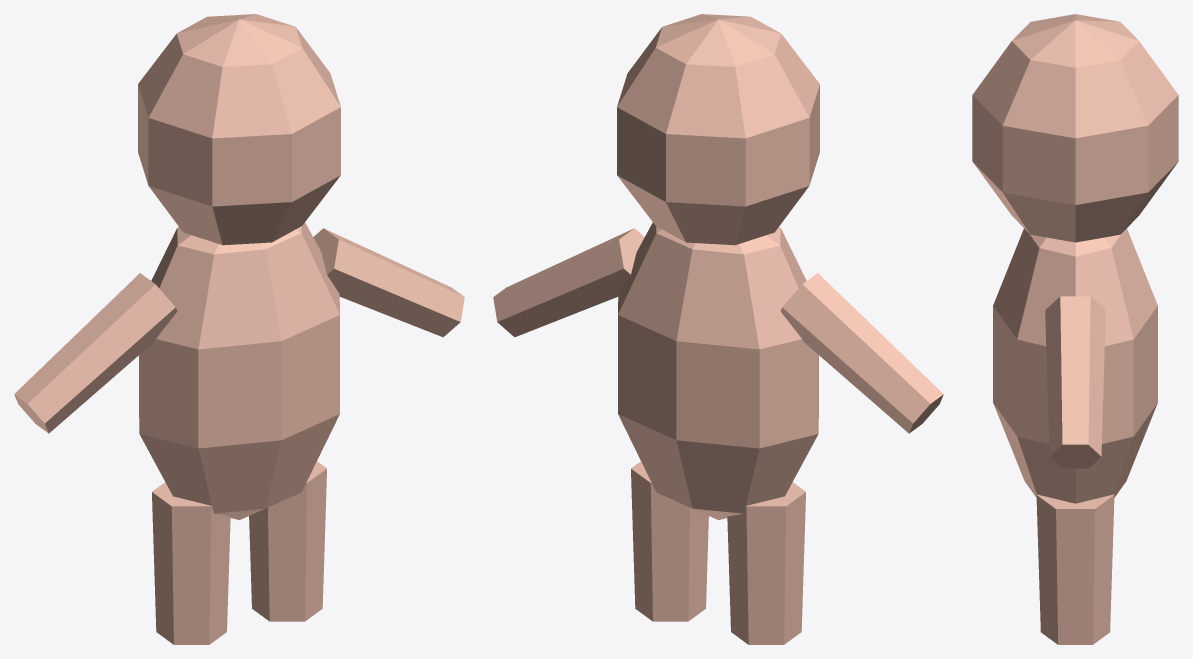
File: factory_doll.glb
3 renders of one model, left to right at view 1: azimuth 30°, elevation 25°; view 2: azimuth 150°, elevation 25°; view 3: azimuth 270°, elevation 25°, orthographic.
Parts seen in each view (by area): view 1: body_doll_plastic, head_doll_plastic, legs_doll_plastic, arms_doll_plastic; view 2: body_doll_plastic, head_doll_plastic, legs_doll_plastic, arms_doll_plastic; view 3: head_doll_plastic, body_doll_plastic, legs_doll_plastic, arms_doll_plastic.
Part boxes in pixels (bbox=[...]): body_doll_plastic: bbox=[139, 222, 339, 519]; head_doll_plastic: bbox=[138, 14, 340, 245]; legs_doll_plastic: bbox=[152, 461, 326, 644]; arms_doll_plastic: bbox=[14, 228, 464, 433]; body_doll_plastic: bbox=[618, 222, 818, 519]; head_doll_plastic: bbox=[617, 14, 819, 245]; legs_doll_plastic: bbox=[631, 461, 805, 644]; arms_doll_plastic: bbox=[493, 228, 943, 433]; head_doll_plastic: bbox=[972, 14, 1178, 242]; body_doll_plastic: bbox=[993, 228, 1157, 503]; legs_doll_plastic: bbox=[1036, 494, 1114, 644]; arms_doll_plastic: bbox=[1045, 296, 1105, 468].
Bounding box in the file's own units: 0.2285 × 0.3 × 0.0951.
